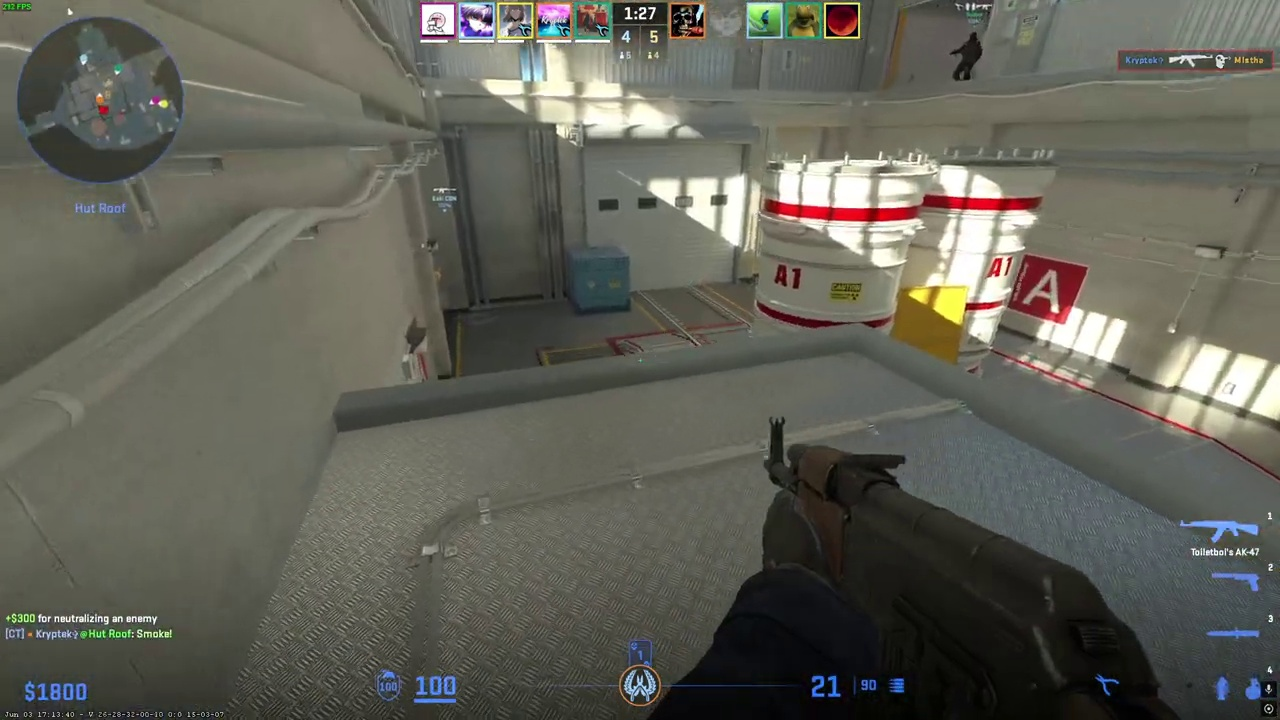CT: (953, 30, 983, 83)
